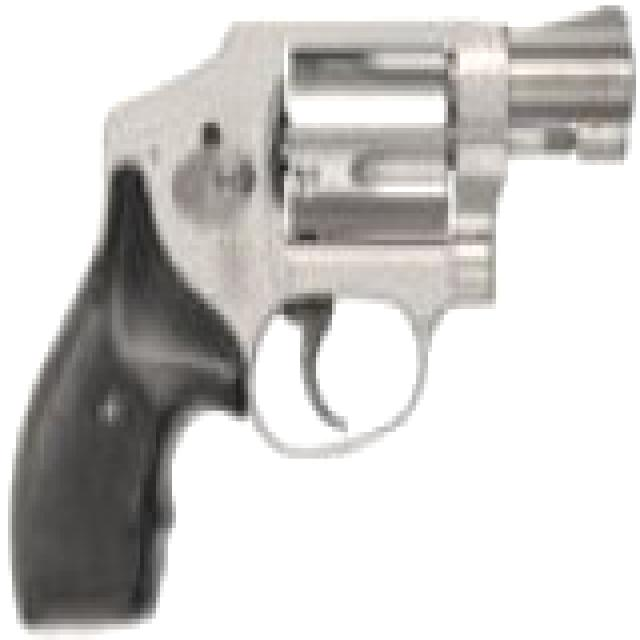pistol: (24, 0, 636, 629)
